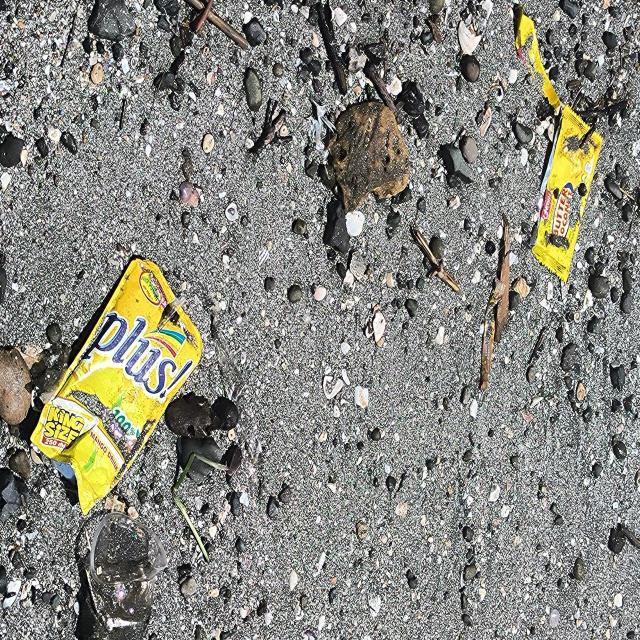plastic_waste: (30, 256, 206, 518), (515, 15, 605, 287)
